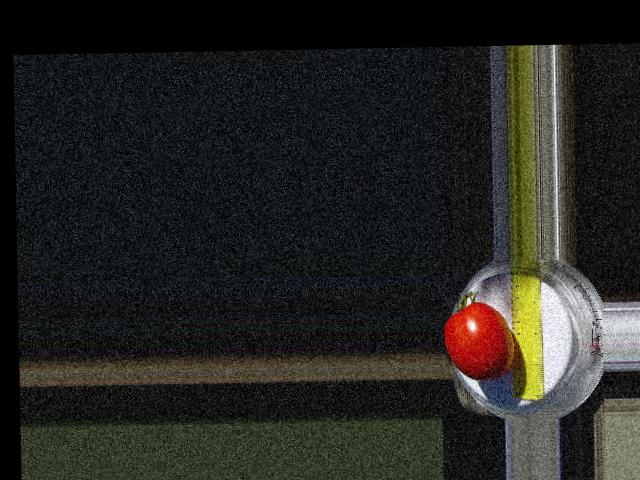tomato: (443, 300, 516, 380)
